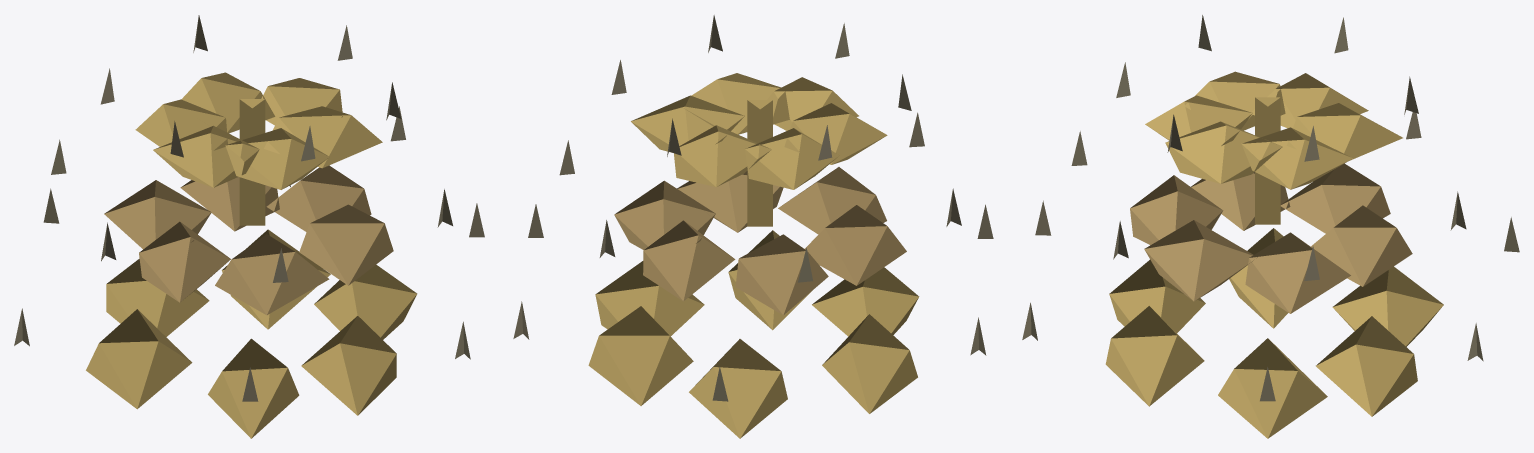
File: cao.shamo@subadult__autumn.glb
The picture shows the model from 3 angles, left to right: view 1: azimuth 30°, elevation 25°; view 2: azimuth 150°, elevation 25°; view 3: azimuth 270°, elevation 25°; orthographic projection.
Visible parts, largest first — view 1: cao.shamo@subadult__autumn; view 2: cao.shamo@subadult__autumn; view 3: cao.shamo@subadult__autumn.
Boxes of the visible parts, bbox=[...] form: cao.shamo@subadult__autumn: bbox=[14, 15, 484, 438]; cao.shamo@subadult__autumn: bbox=[513, 15, 993, 438]; cao.shamo@subadult__autumn: bbox=[1022, 15, 1519, 438].
Size of the model in its own units: 0.9884 by 0.6386 by 0.9117.
